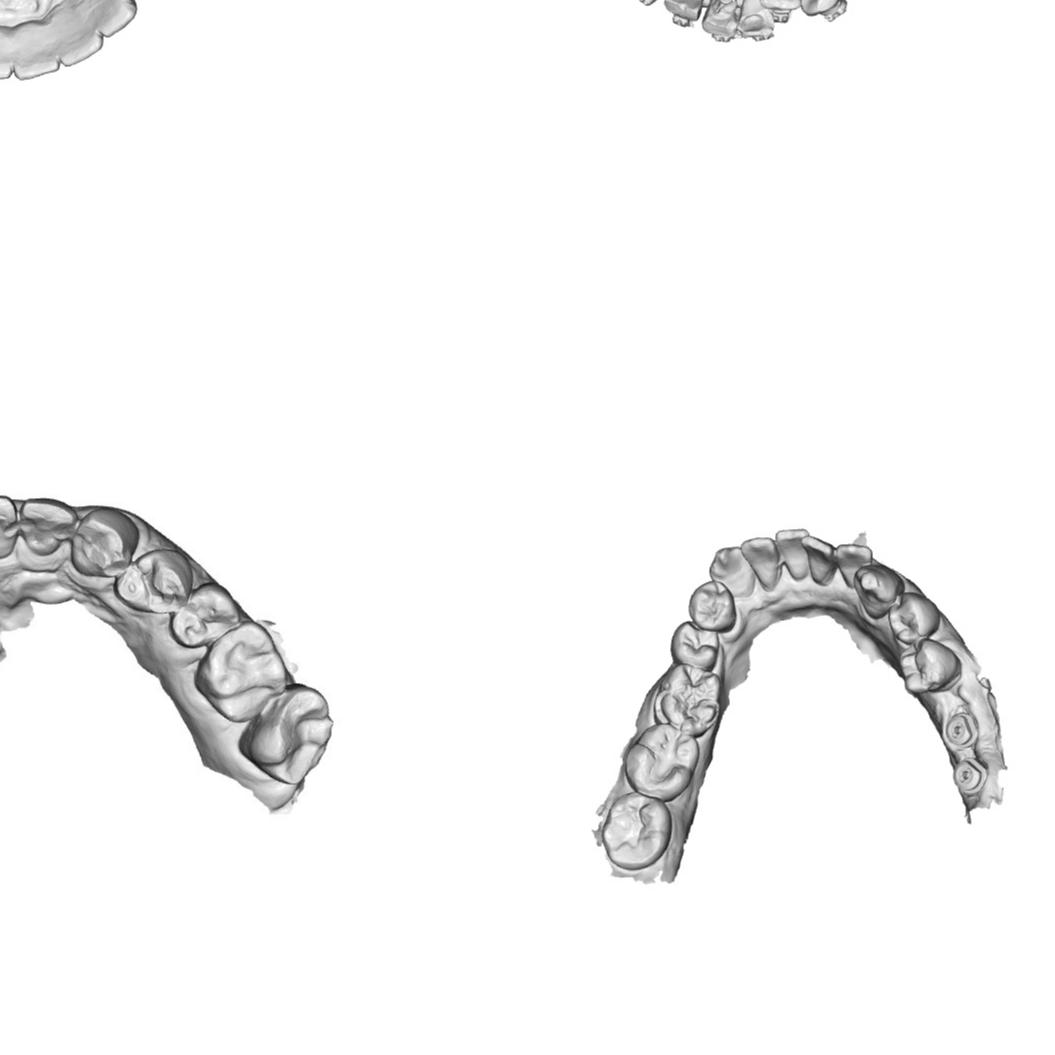canine: (72, 507, 136, 586), (851, 562, 904, 620), (686, 579, 737, 633), (707, 545, 756, 600), (795, 0, 847, 17)
implant_minus: (951, 755, 990, 795), (943, 711, 980, 748)
incisor: (23, 490, 89, 562), (10, 20, 60, 82), (53, 13, 104, 69), (739, 534, 781, 592), (82, 0, 138, 39), (799, 533, 837, 587), (774, 527, 810, 581), (834, 541, 873, 590), (700, 0, 741, 38), (737, 0, 775, 40), (0, 493, 18, 560), (663, 0, 706, 22), (0, 25, 13, 81), (758, 0, 802, 13)
molar: (247, 689, 337, 789), (201, 623, 284, 717), (622, 722, 701, 802), (600, 791, 672, 872), (650, 661, 723, 738)
premolar: (119, 547, 194, 619), (170, 583, 245, 650), (896, 636, 963, 696), (884, 590, 942, 647), (668, 618, 722, 671)
